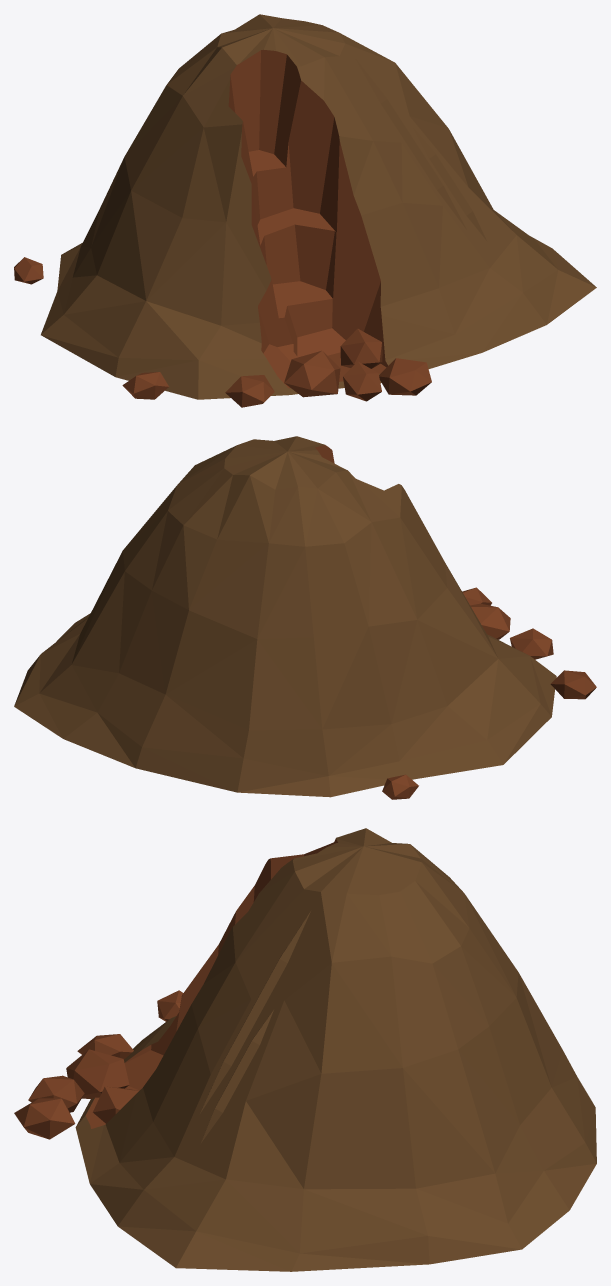
The model's file is spoil-heap-9aaa11.glb.
3 views of the same model, one above another, from view 1: azimuth 30°, elevation 25°; view 2: azimuth 150°, elevation 25°; view 3: azimuth 270°, elevation 25° (orthographic). The views are drawn at different scales.
Parts seen in each view (by area): view 1: spoil-heap-body; view 2: spoil-heap-body; view 3: spoil-heap-body.
Part boxes in pixels (x1,y1,x2,y2): spoil-heap-body: [14, 14, 596, 407]; spoil-heap-body: [14, 436, 596, 799]; spoil-heap-body: [14, 828, 596, 1271].
Bounding box in the file's own units: 3.37 × 1.75 × 3.19.
